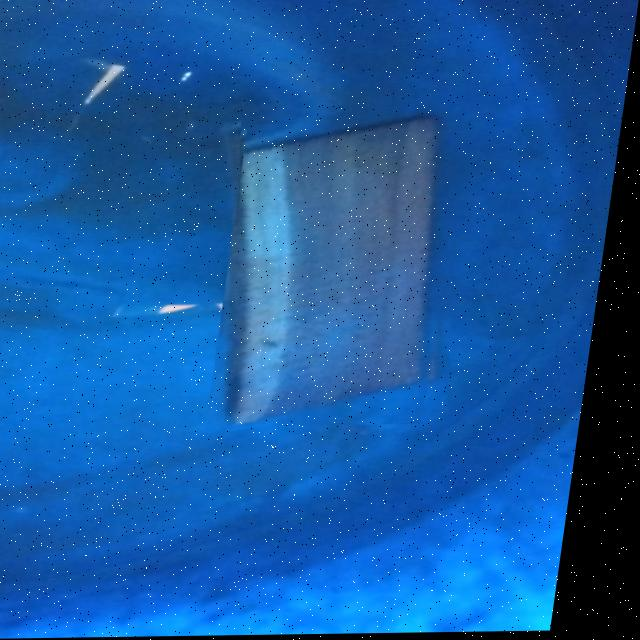wood: (218, 98, 486, 428)
